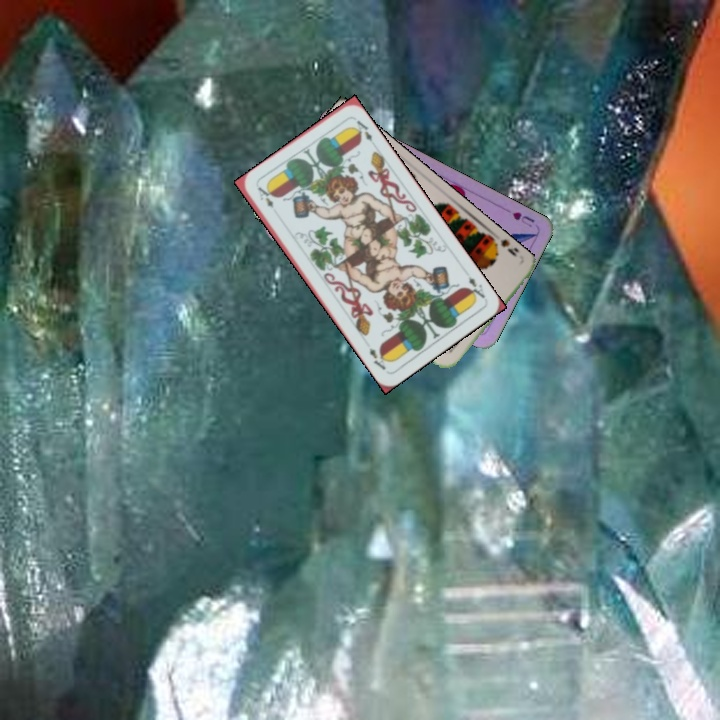EA: (462, 272, 488, 305), (253, 182, 276, 211)
HU: (508, 208, 537, 230)
S9: (487, 234, 521, 260)
